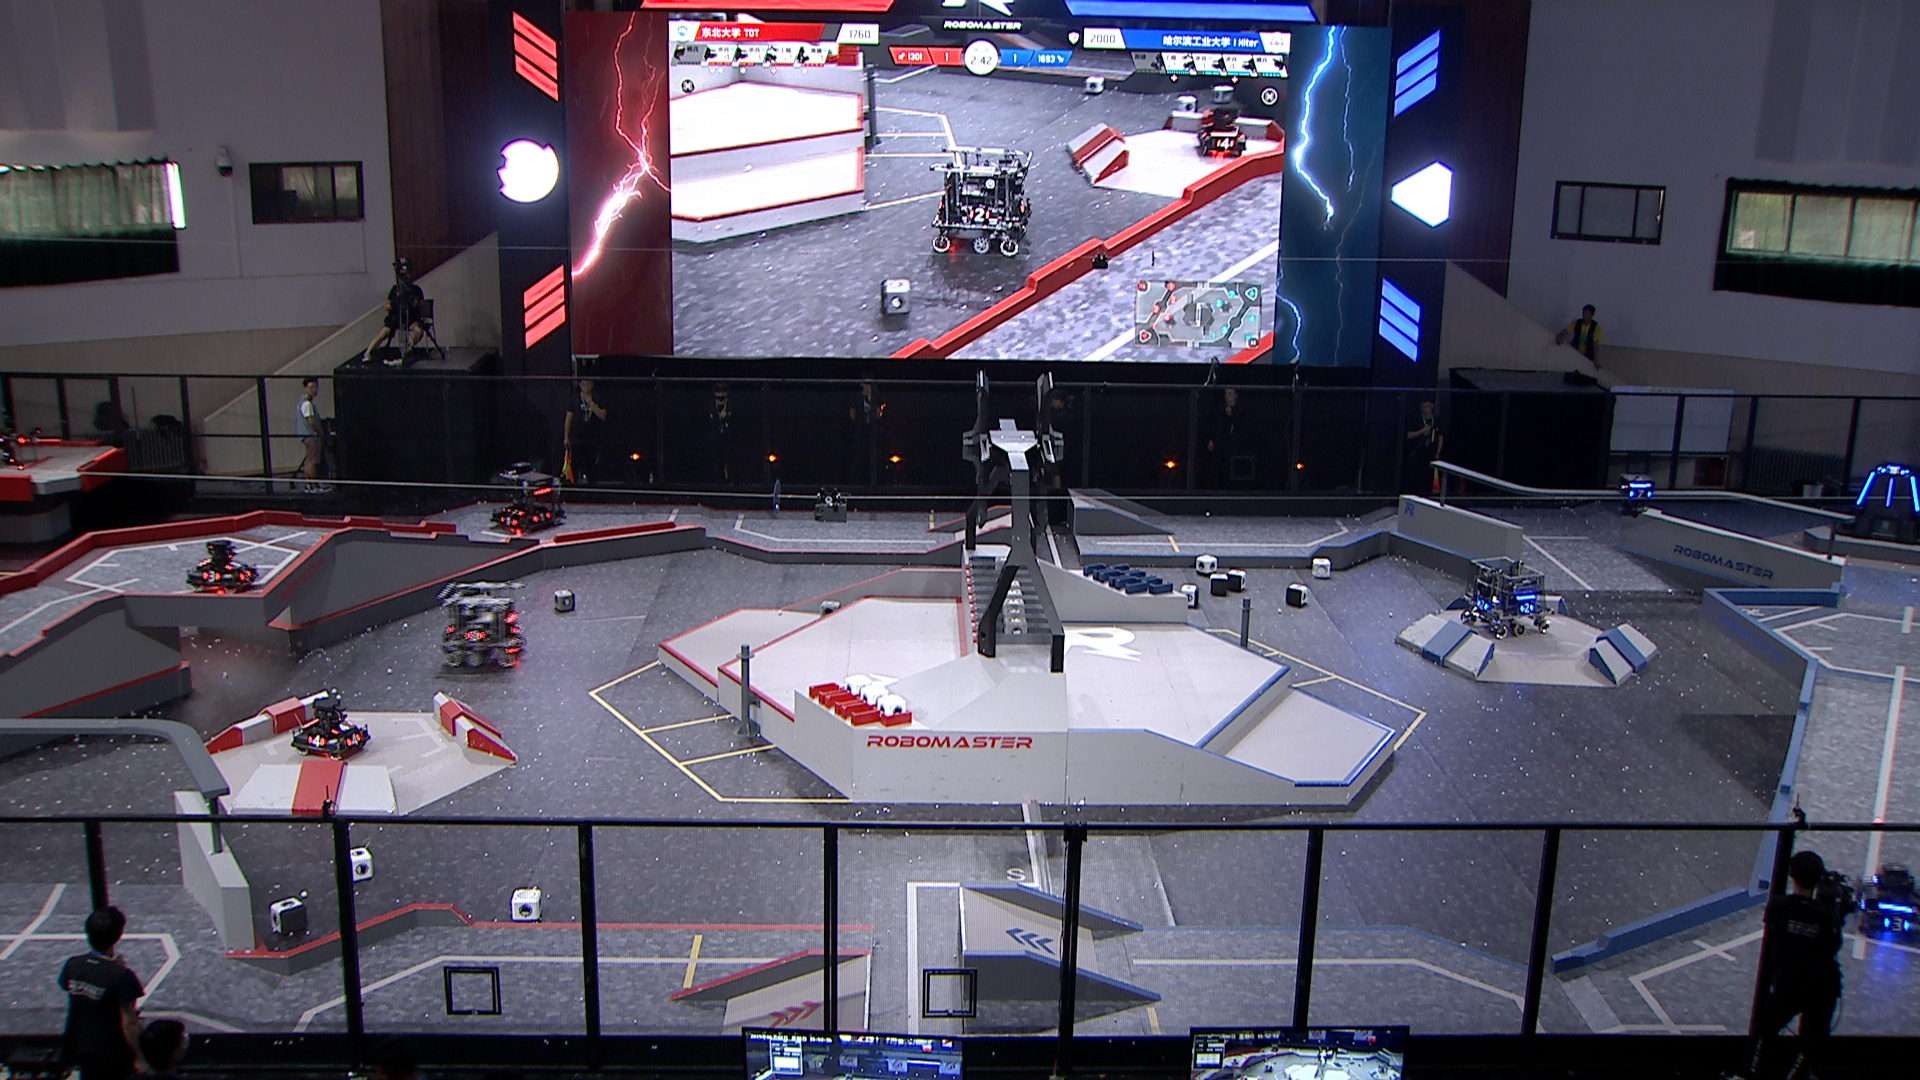armor: (1851, 469, 1880, 505), (1905, 471, 1920, 513), (1883, 913, 1912, 932), (1627, 487, 1658, 504), (529, 508, 556, 526), (1854, 887, 1871, 915), (328, 719, 356, 735), (235, 564, 255, 585), (460, 628, 485, 644), (1472, 595, 1491, 615), (496, 514, 522, 529), (1878, 465, 1909, 477), (1884, 479, 1896, 510), (500, 502, 524, 518), (508, 618, 526, 638), (1516, 599, 1538, 616), (225, 556, 245, 574), (200, 567, 222, 583), (305, 735, 327, 749), (345, 728, 361, 746)
base: (1836, 462, 1920, 550)
car: (440, 579, 533, 671), (1460, 553, 1553, 644), (487, 460, 566, 534), (289, 690, 368, 764), (1851, 858, 1920, 939), (183, 533, 261, 593)
ignore: (924, 146, 1036, 258), (1196, 105, 1247, 158)
watcher: (1613, 467, 1662, 520)
